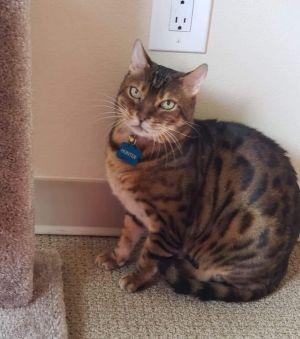bengal: (110, 36, 213, 151)
